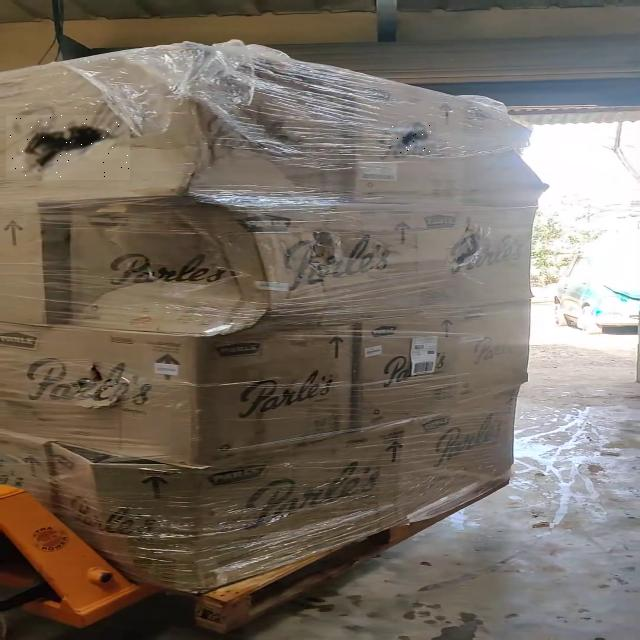leakage: (6, 115, 130, 179)
tear: (392, 122, 436, 153)
